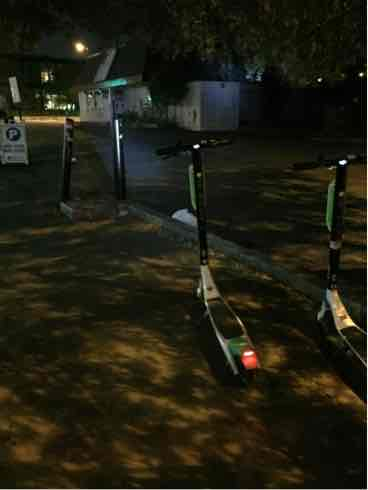scooter: (151, 127, 269, 400)
